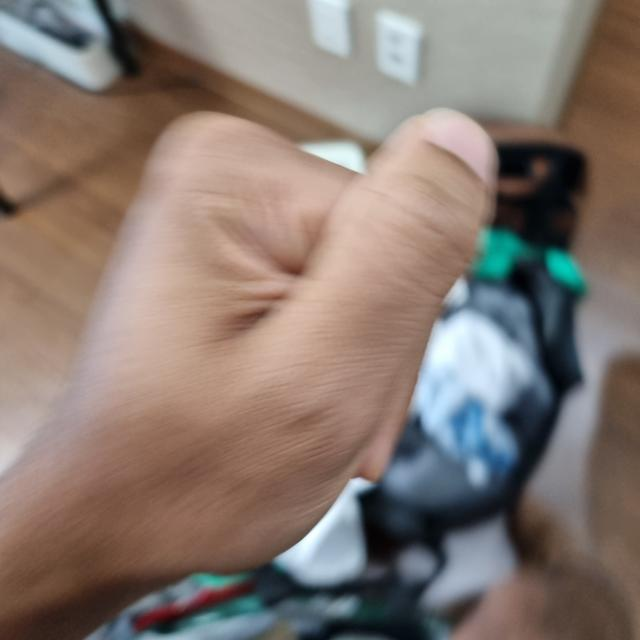Rock: (37, 110, 489, 577)
